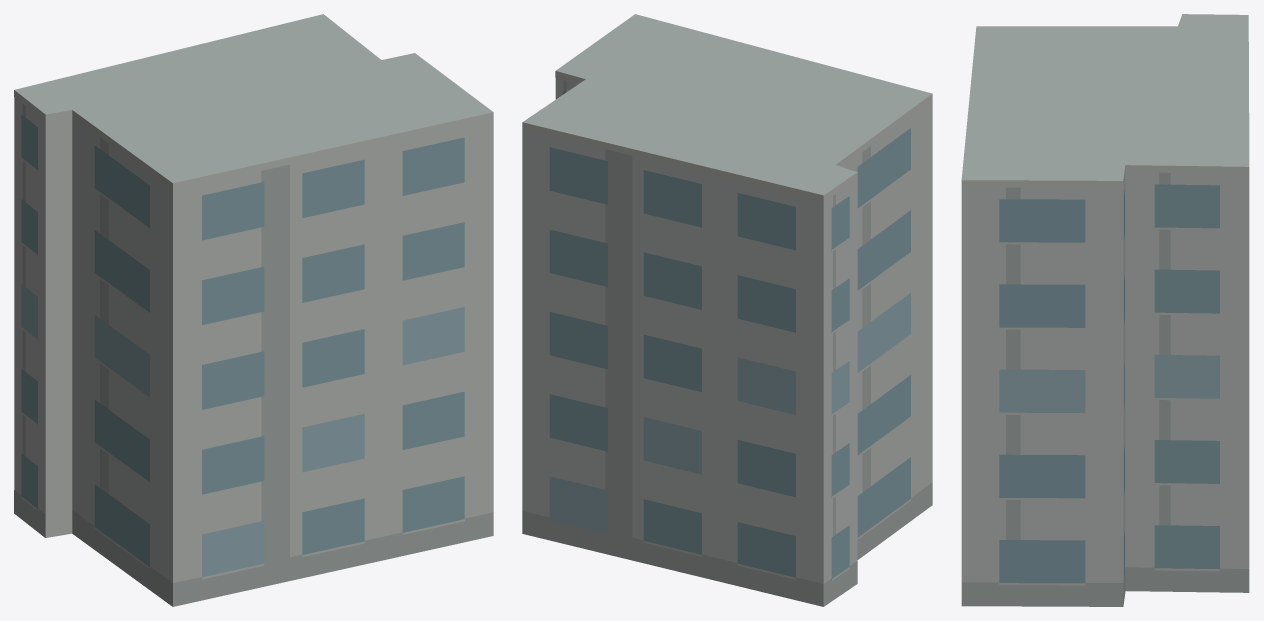
File: survey-upis-32736206.glb
3 renders of one model, left to right at view 1: azimuth 30°, elevation 25°; view 2: azimuth 150°, elevation 25°; view 3: azimuth 270°, elevation 25°, orthographic. The views are drawn at different scales.
Parts seen in each view (by area): view 1: survey-upis-32736206.tmp; view 2: survey-upis-32736206.tmp; view 3: survey-upis-32736206.tmp.
Part boxes in pixels (x1,y1,x2,y2): survey-upis-32736206.tmp: (14, 14, 493, 606); survey-upis-32736206.tmp: (522, 14, 932, 606); survey-upis-32736206.tmp: (961, 14, 1249, 606).
Bounding box in the file's own units: 12.19 × 14.5 × 8.89.
